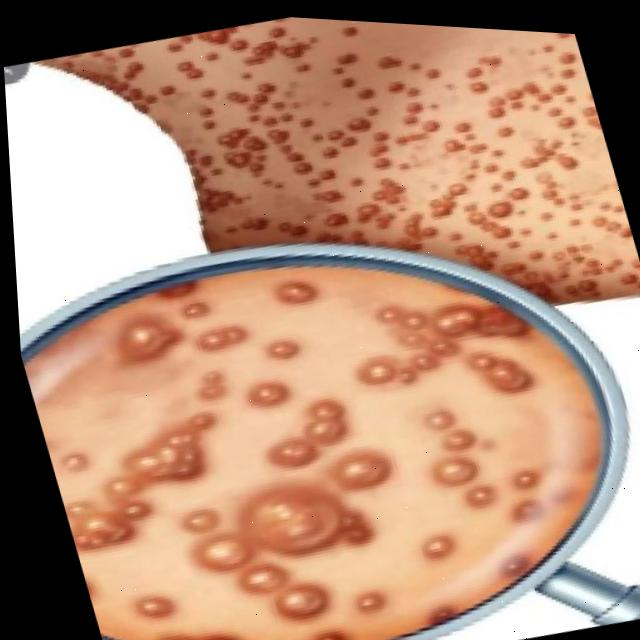Eczema: (134, 8, 640, 368), (69, 315, 494, 640)
